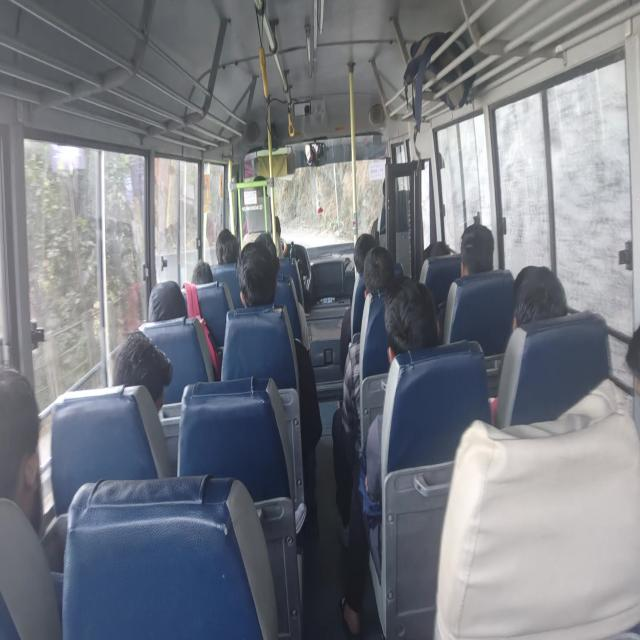person: (0, 383, 65, 526), (387, 276, 441, 373), (105, 336, 168, 404), (516, 274, 567, 339), (454, 230, 488, 276), (241, 249, 271, 301), (368, 250, 404, 290), (149, 283, 190, 318), (212, 233, 241, 272), (250, 232, 284, 265), (348, 240, 368, 266), (427, 242, 450, 258)
